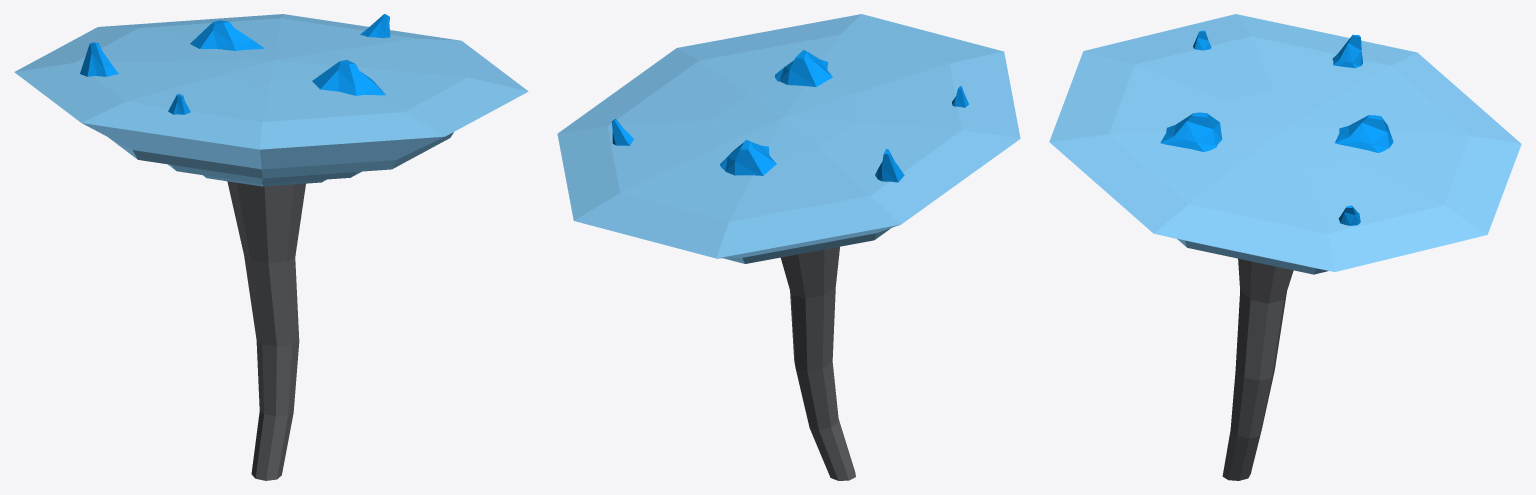
Rendered from SP_Tree02.fbx.
3 views of the same model, side by side, from view 1: azimuth 30°, elevation 25°; view 2: azimuth 150°, elevation 25°; view 3: azimuth 270°, elevation 25° (orthographic). The views are drawn at different scales.
Visible parts, largest first — view 1: SP_Tree02; view 2: SP_Tree02; view 3: SP_Tree02.
Part boxes in pixels (x1,y1,x2,y2): SP_Tree02: [14, 14, 528, 480]; SP_Tree02: [557, 14, 1020, 480]; SP_Tree02: [1049, 14, 1521, 480].
Size of the model in its own units: 381 by 352 by 381.
1 material, 1 textured.
